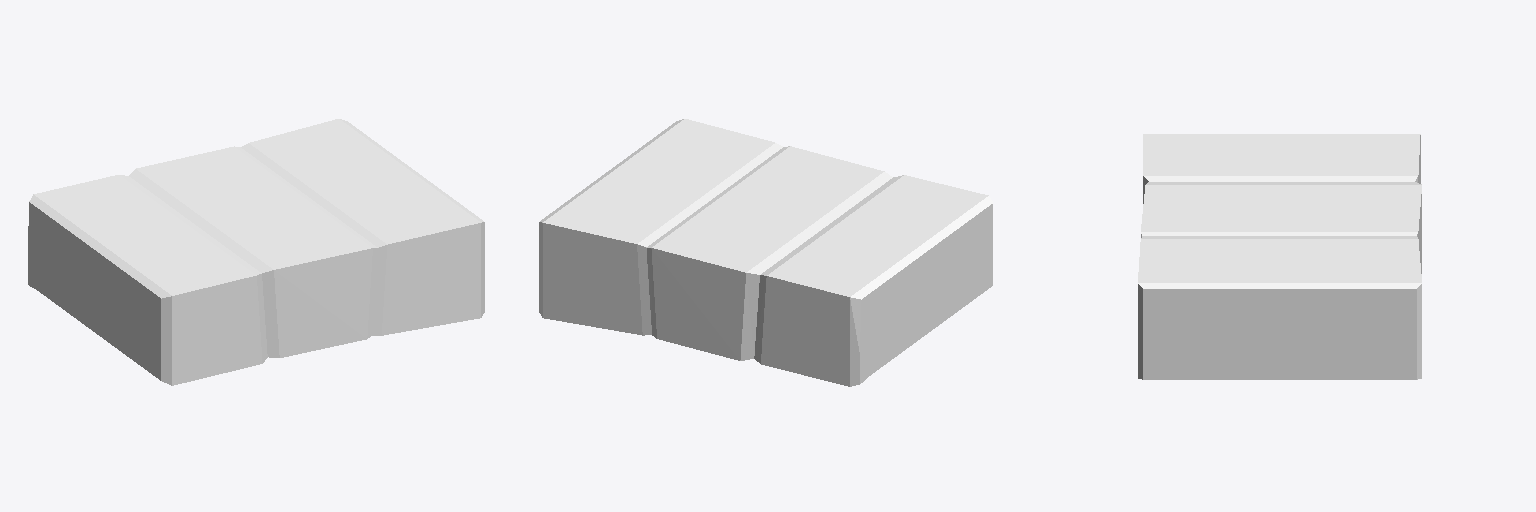
File: Doorway1_Extension.obj
3 views of the same model, side by side, from view 1: azimuth 30°, elevation 25°; view 2: azimuth 150°, elevation 25°; view 3: azimuth 270°, elevation 25° (orthographic).
Visible parts, largest first — view 1: Object001; view 2: Object001; view 3: Object001.
Boxes of the visible parts, x1=… form: Object001: x1=28, y1=119, x2=484, y2=385; Object001: x1=539, y1=119, x2=992, y2=386; Object001: x1=1138, y1=134, x2=1421, y2=379.
Size of the model in its own units: 0.9933 by 0.2832 by 0.7644.